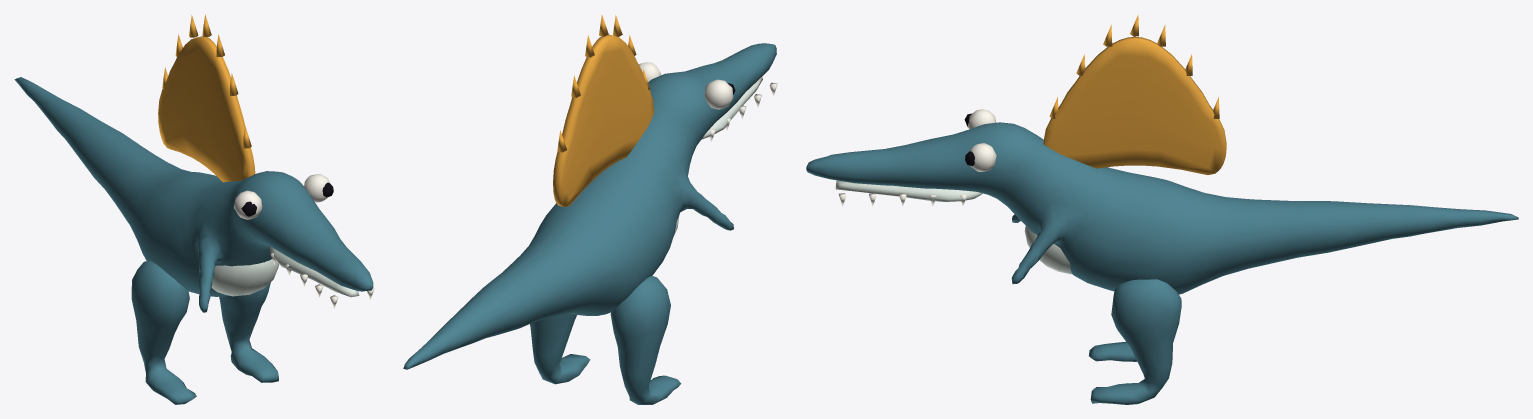
File: Dino_Spinosaurus.fbx
3 renders of one model, left to right at view 1: azimuth 30°, elevation 25°; view 2: azimuth 150°, elevation 25°; view 3: azimuth 270°, elevation 25°, orthographic. The views are drawn at different scales.
Parts seen in each view (by area): view 1: Body, Accent, LegL, LegR, Belly, EyeWhite; view 2: Body, Accent, LegL, LegR, EyeWhite, Belly; view 3: Body, Accent, LegR, Belly, EyeWhite, LegL.
Part boxes in pixels (left/top/right/bottom): Body: left=14, top=77, right=373, bottom=312; Accent: left=158, top=14, right=255, bottom=182; LegL: left=131, top=260, right=196, bottom=404; LegR: left=219, top=282, right=278, bottom=382; Belly: left=211, top=247, right=359, bottom=297; EyeWhite: left=234, top=174, right=374, bottom=308; Body: left=403, top=43, right=776, bottom=369; Accent: left=553, top=15, right=654, bottom=207; LegL: left=610, top=276, right=681, bottom=404; LegR: left=530, top=314, right=590, bottom=384; EyeWhite: left=638, top=62, right=777, bottom=141; Belly: left=674, top=77, right=762, bottom=235; Body: left=806, top=122, right=1518, bottom=294; Accent: left=1043, top=15, right=1226, bottom=174; LegR: left=1090, top=279, right=1181, bottom=404; Belly: left=835, top=180, right=1072, bottom=274; EyeWhite: left=838, top=109, right=996, bottom=206; LegL: left=1089, top=341, right=1136, bottom=361.
Size of the model in its own units: 2.08 by 5.53 by 9.74.
